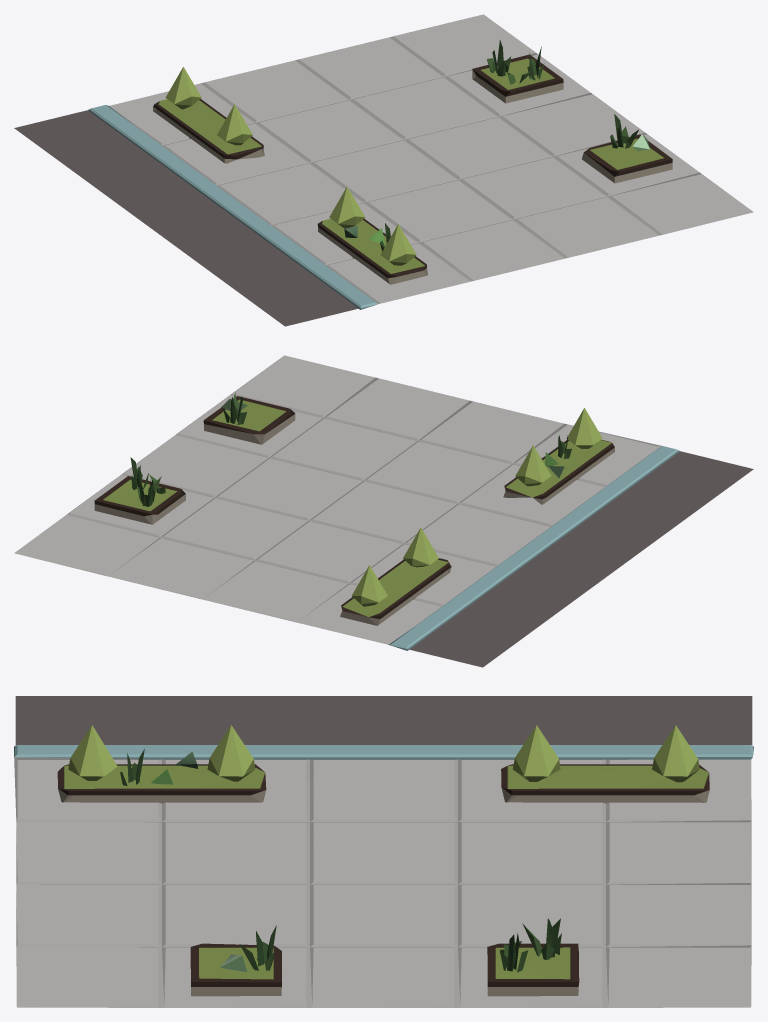
File: QmQ98TMJyS6BrEZRDn77795mHLtCKAeCpViGzZh9i9P8Wf_lod2.fbx
3 renders of one model, top to bottom at view 1: azimuth 30°, elevation 25°; view 2: azimuth 150°, elevation 25°; view 3: azimuth 270°, elevation 25°, orthographic. The views are drawn at different scales.
Parts seen in each view (by area): view 1: Entity_512; view 2: Entity_512; view 3: Entity_512.
Part boxes in pixels (x1,y1,x2,y2): Entity_512: [14, 14, 753, 326]; Entity_512: [14, 355, 753, 667]; Entity_512: [14, 696, 753, 1007].
Bounding box in the file's own units: 15918 × 1591 × 16000.
1 material, 1 textured.
